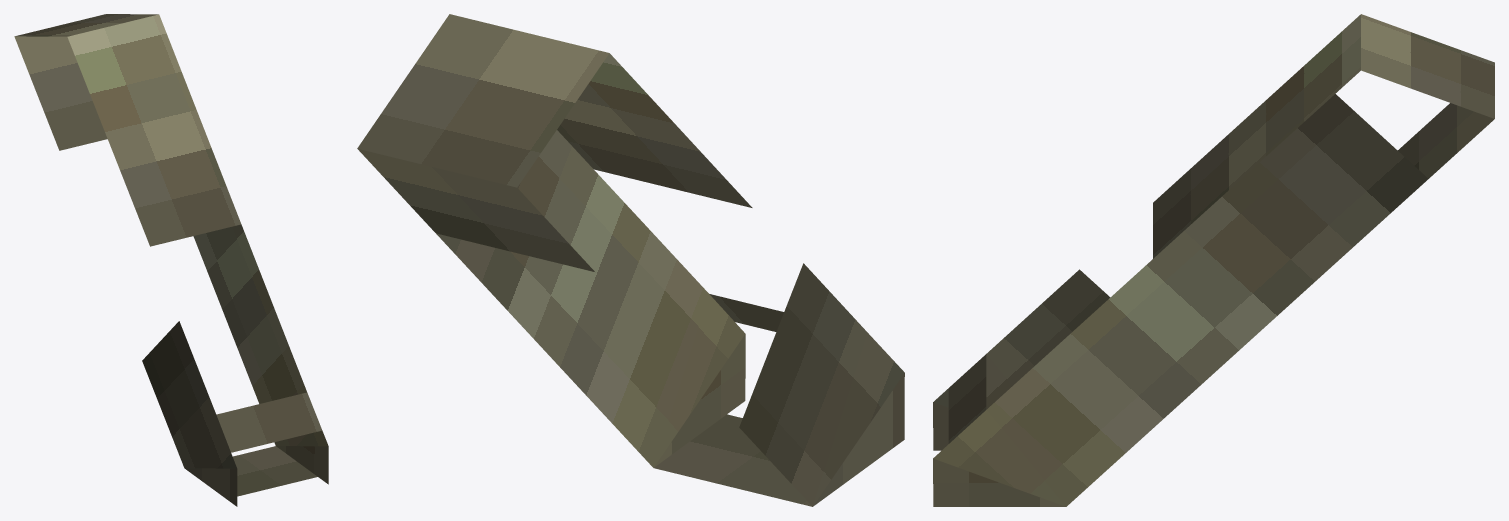
The model's file is beech_thin_branch_45_straight.obj.
3 views of the same model, side by side, from view 1: azimuth 30°, elevation 25°; view 2: azimuth 150°, elevation 25°; view 3: azimuth 270°, elevation 25° (orthographic). The views are drawn at different scales.
Visible parts, largest first — view 1: cube; view 2: cube; view 3: cube.
Part boxes in pixels (left/top/right/bottom): cube: left=14, top=14, right=328, bottom=506; cube: left=357, top=14, right=904, bottom=506; cube: left=933, top=14, right=1494, bottom=506.
Size of the model in its own units: 0.3125 by 1.12 by 1.31.
